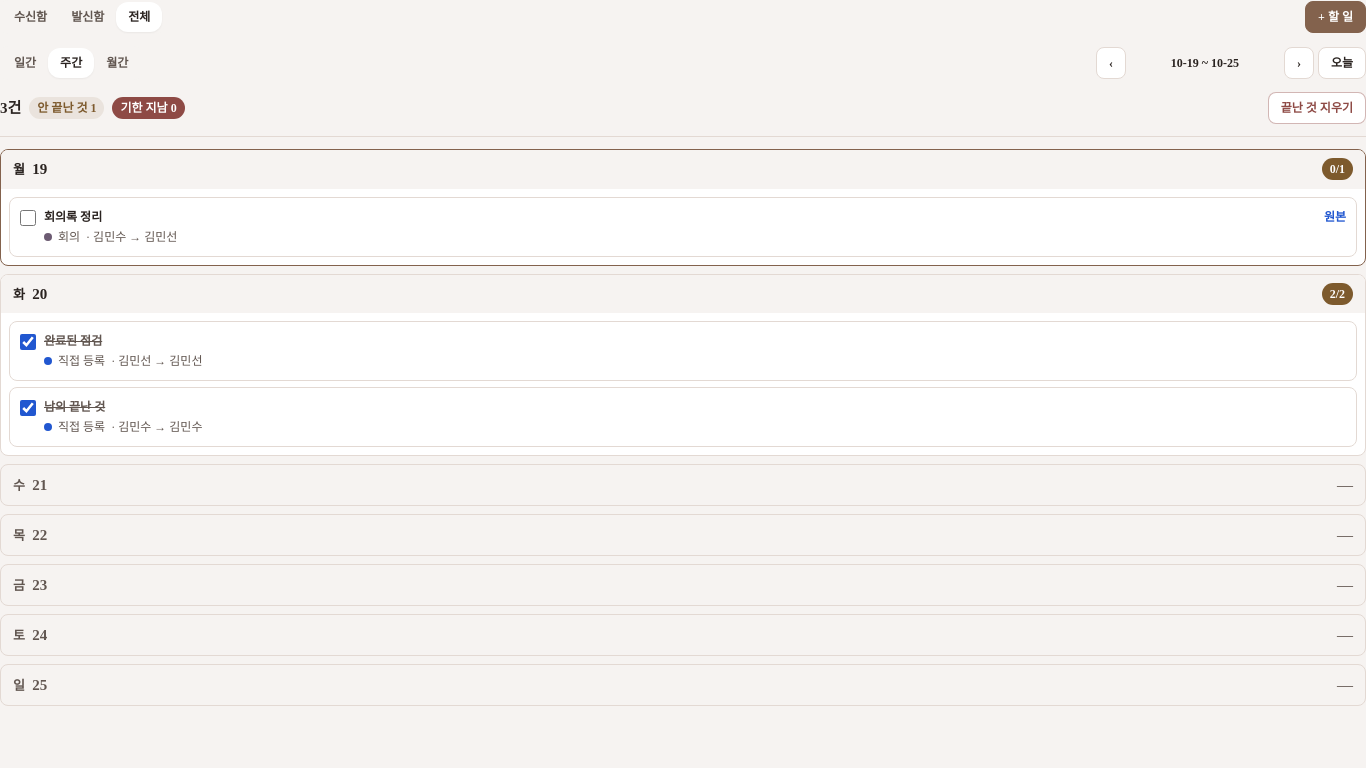
Test: 기한 편집이 생겨도 생성의 빈 날짜는 생략하고 서랍에는 기한 고치기를 열지 않는다
The image size is (1366, 768).
Click the button "+ 할 일" at (1336, 17), box [1305,1,1365,33]
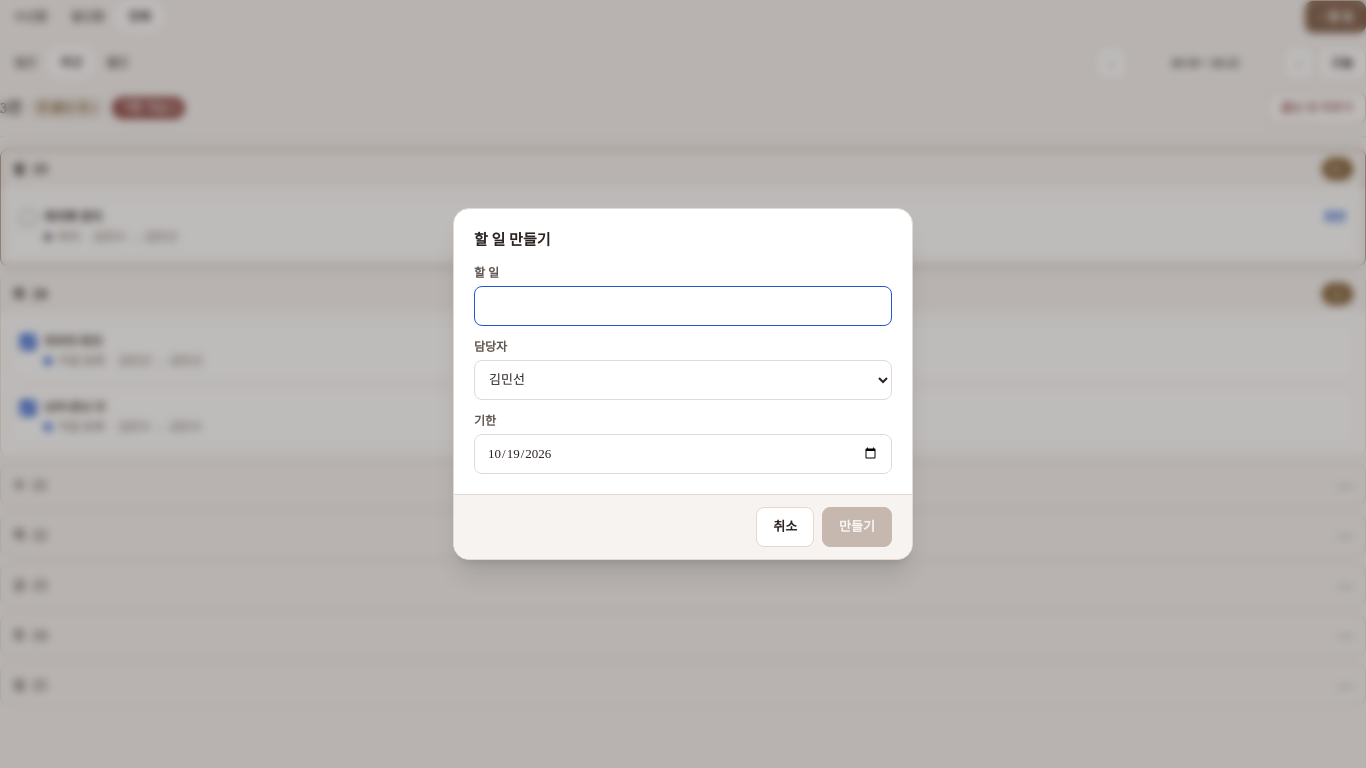
Type "기한 미정" into the field labelled "할 일" at (683, 306), box [474,286,892,326]
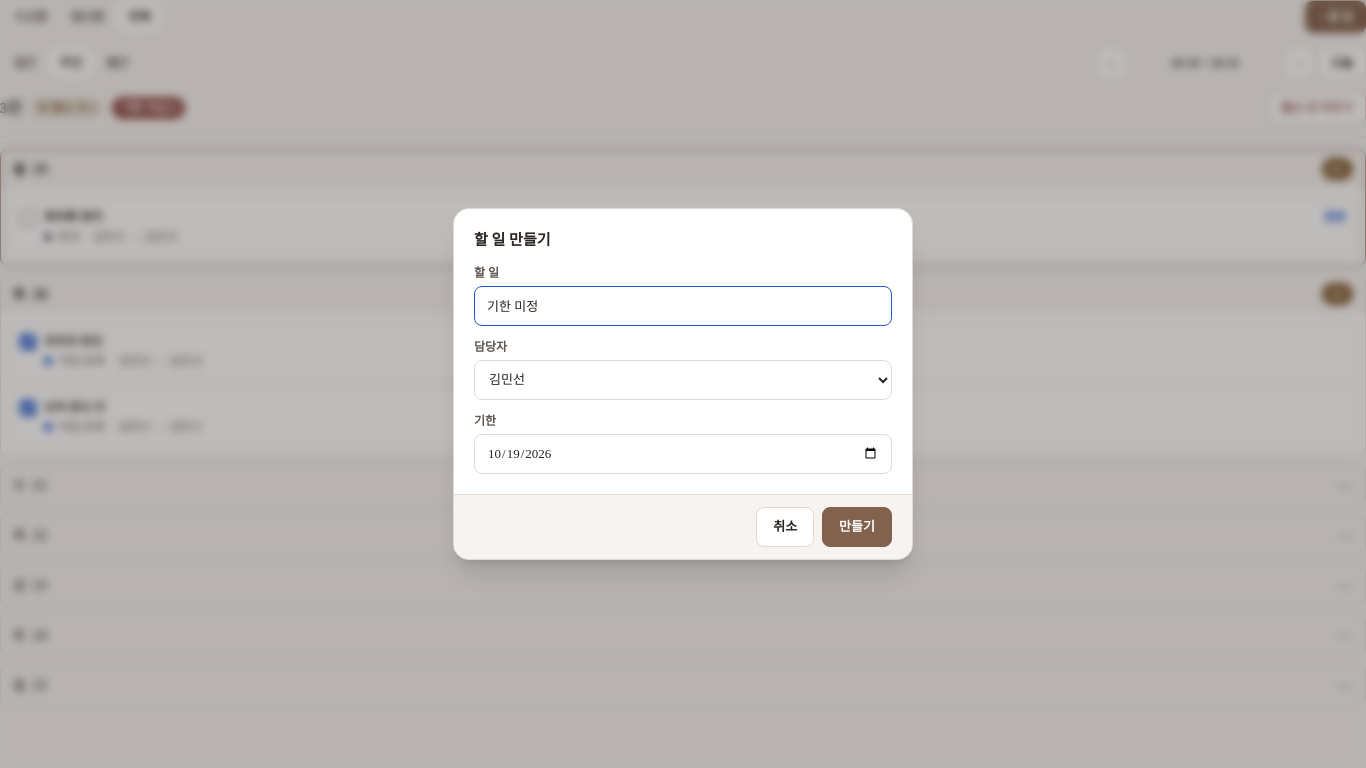
Clear the date field labelled "기한" at (683, 454), box [474,434,892,474]
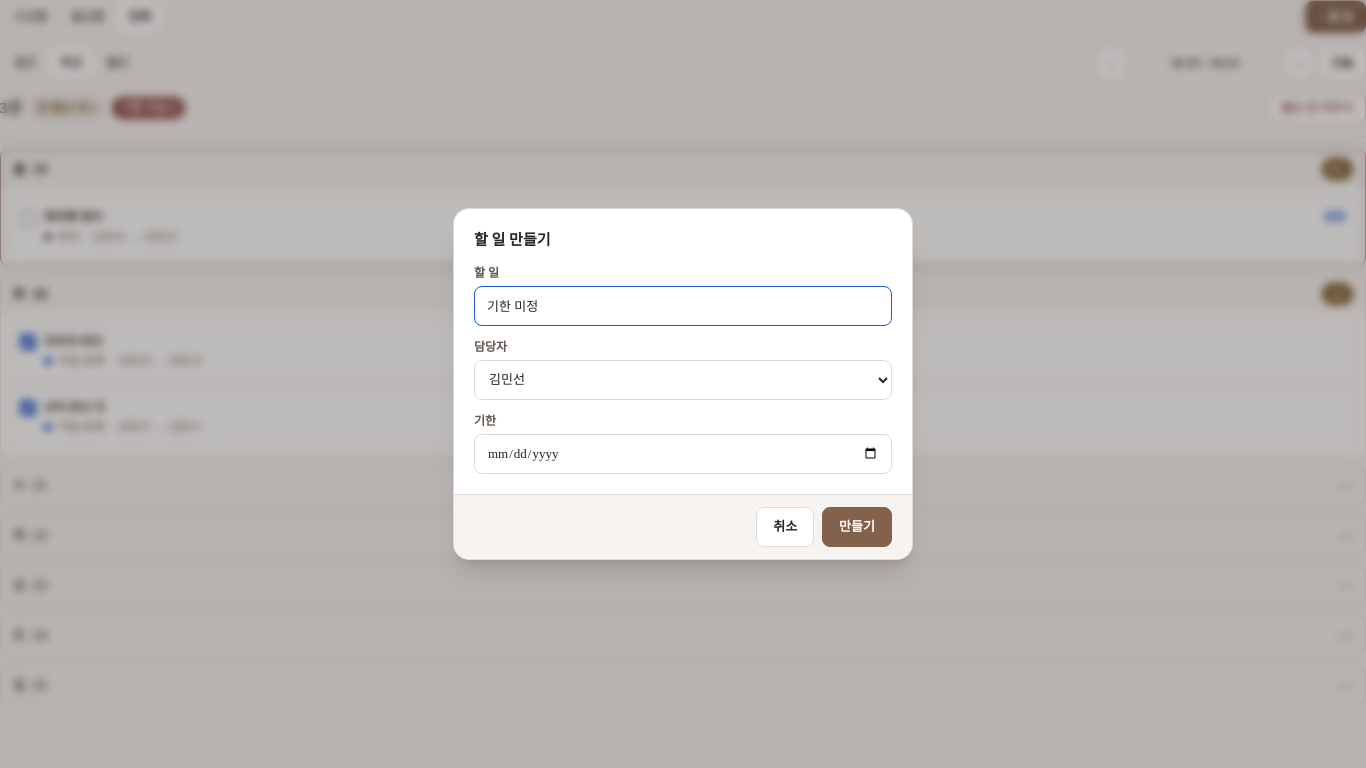
Click the button "만들기" at (857, 527), box [822,507,892,547]
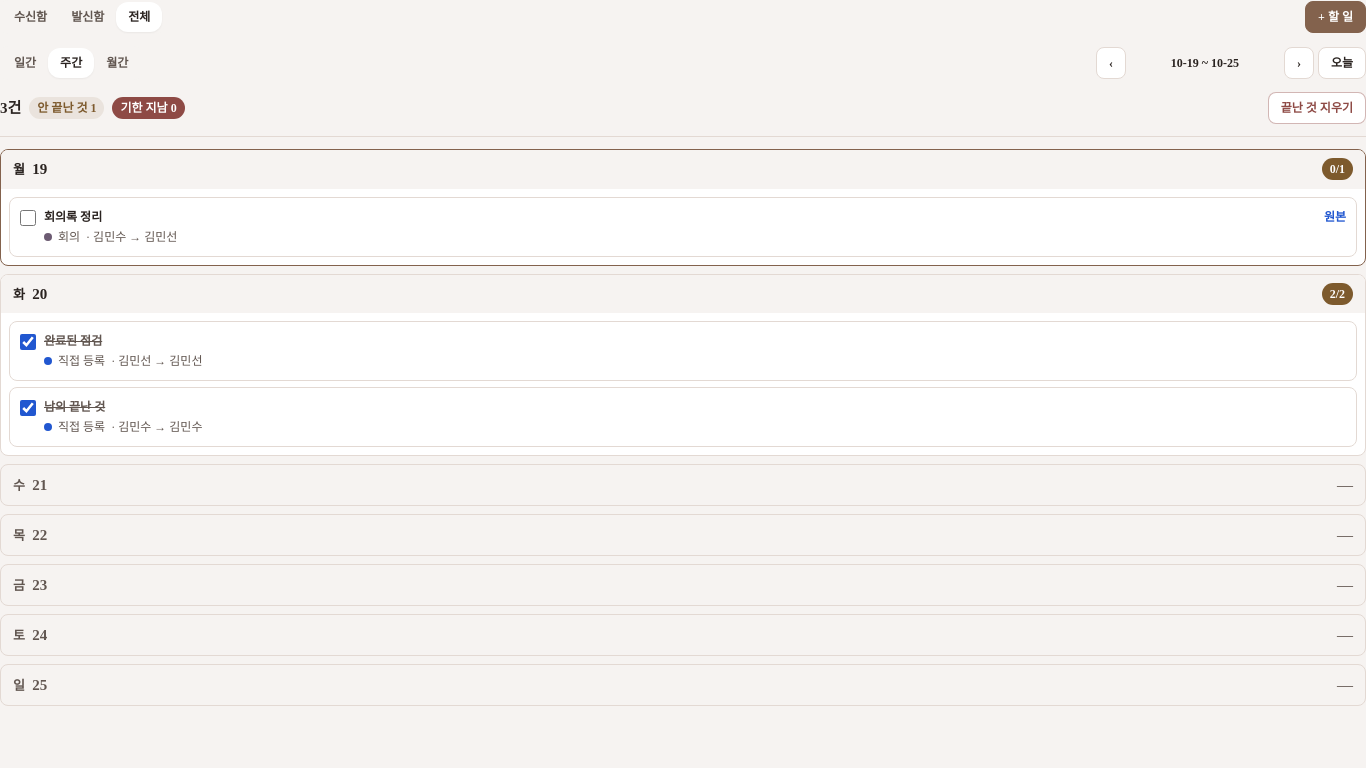
Check: the dialog is gone
